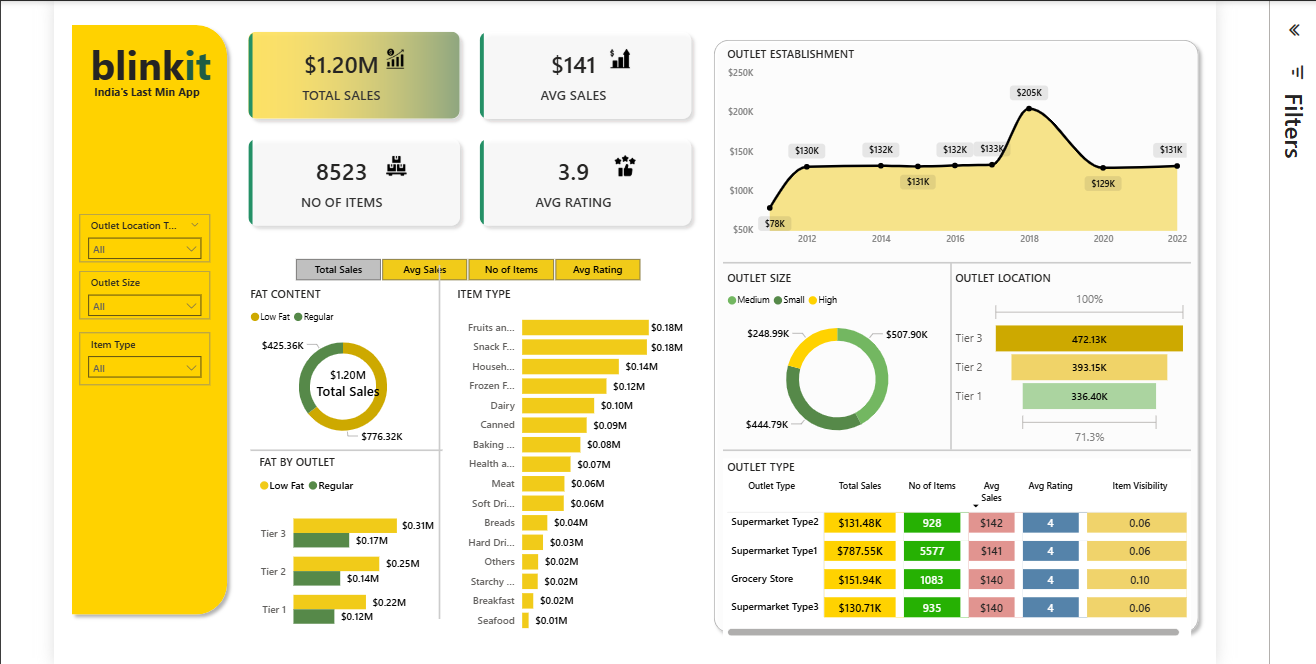

Layout of this report page (visuals, bound fields, positions):
{"tool":"powerbi","page":{"name":"Page 1","canvas":[1400,800],"ordinal":0},"visuals":[{"type":"shape","box":[12.7,19.9,205,728.3],"z":0},{"type":"textbox","box":[265.7,600,204.2,148.2],"z":1},{"type":"textbox","box":[37.2,37.2,157.1,138.5],"z":2},{"type":"textbox","box":[43.4,94,144.6,48.8],"z":3},{"type":"cardVisual","fields":{"Data":["BlinkIT Grocery Data.Total Sales","BlinkIT Grocery Data.Avg Sales","BlinkIT Grocery Data.No of Items","BlinkIT Grocery Data.Avg Rating"]},"box":[216.9,19.9,569.3,269.3],"z":4},{"type":"shape","box":[786.2,38,601.8,731.9],"z":5},{"type":"donutChart","title":"FAT CONTENT","fields":{"Category":["BlinkIT Grocery Data.Item Fat Content"],"Y":["BlinkIT Grocery Data.Total Sales"]},"box":[231.3,343.4,233.1,197],"z":6},{"type":"slicer","fields":{"Values":["Metrics.Metrics"]},"box":[265.7,303.6,464.5,39.8],"z":7},{"type":"cardVisual","fields":{"Data":["BlinkIT Grocery Data.Total Sales"]},"box":[298.2,412.1,112.1,97.6],"z":8},{"type":"clusteredBarChart","title":"FAT BY OUTLET","fields":{"Y":["BlinkIT Grocery Data.Total Sales"],"Category":["BlinkIT Grocery Data.Outlet Location Type"],"Series":["BlinkIT Grocery Data.Item Fat Content"]},"box":[242.2,545.8,220.5,229.5],"z":10},{"type":"shape","box":[236.8,525.9,231.3,30.7],"z":11},{"type":"shape","box":[307.2,318.1,314.5,426.5],"z":12},{"type":"barChart","title":"ITEM TYPE","fields":{"Category":["BlinkIT Grocery Data.Item Type"],"Y":["BlinkIT Grocery Data.Total Sales"]},"box":[480.7,343.4,281.9,426.5],"z":13},{"type":"lineChart","title":"OUTLET ESTABLISHMENT","fields":{"Y":["BlinkIT Grocery Data.Total Sales"],"Category":["BlinkIT Grocery Data.Outlet Establishment Year"]},"box":[806,54.2,563.9,249.4],"z":14},{"type":"shape","box":[806,531.3,563.9,19.9],"z":15},{"type":"donutChart","title":"OUTLET SIZE","fields":{"Y":["BlinkIT Grocery Data.Total Sales"],"Category":["BlinkIT Grocery Data.Outlet Size"]},"box":[806,323.5,274.7,218.7],"z":16},{"type":"shape","box":[1053.6,314.5,54.2,225.9],"z":17},{"type":"funnel","title":"OUTLET LOCATION","fields":{"Y":["Sum(BlinkIT Grocery Data.Sales)"],"Category":["BlinkIT Grocery Data.Outlet Location Type"]},"box":[1080.7,323.5,289.2,216.9],"z":18},{"type":"shape","box":[806,305.4,563.9,19.9],"z":19},{"type":"pivotTable","title":"OUTLET TYPE","fields":{"Rows":["BlinkIT Grocery Data.Outlet Type"],"Values":["BlinkIT Grocery Data.Total Sales","BlinkIT Grocery Data.No of Items","BlinkIT Grocery Data.Avg Sales","BlinkIT Grocery Data.Avg Rating","Avg(BlinkIT Grocery Data.Item Visibility)"]},"box":[806,551.2,563.9,218.7],"z":20},{"type":"slicer","fields":{"Values":["BlinkIT Grocery Data.Outlet Location Type"]},"box":[30.7,256.6,157.2,57.8],"z":21},{"type":"slicer","fields":{"Values":["BlinkIT Grocery Data.Outlet Size"]},"box":[30.7,325.3,157.2,57.8],"z":22},{"type":"slicer","fields":{"Values":["BlinkIT Grocery Data.Item Type"]},"box":[30.7,399.4,157.2,63.3],"z":23}]}

Visuals, with their boxes on the page's 1400x800 design canvas (x1, y1, x2, y2). These are canvas units, not pixel positions in the 1316x664 screenshot, which may show the page scaled, cropped or inside an application window:
shape: {"left": 13, "top": 20, "right": 218, "bottom": 748}
textbox: {"left": 266, "top": 600, "right": 470, "bottom": 748}
textbox: {"left": 37, "top": 37, "right": 194, "bottom": 176}
textbox: {"left": 43, "top": 94, "right": 188, "bottom": 143}
cardVisual - BlinkIT Grocery Data.Total Sales x BlinkIT Grocery Data.Avg Sales: {"left": 217, "top": 20, "right": 786, "bottom": 289}
shape: {"left": 786, "top": 38, "right": 1388, "bottom": 770}
"FAT CONTENT" donutChart: {"left": 231, "top": 343, "right": 464, "bottom": 540}
slicer - Metrics.Metrics: {"left": 266, "top": 304, "right": 730, "bottom": 343}
cardVisual - BlinkIT Grocery Data.Total Sales: {"left": 298, "top": 412, "right": 410, "bottom": 510}
"FAT BY OUTLET" clusteredBarChart: {"left": 242, "top": 546, "right": 463, "bottom": 775}
shape: {"left": 237, "top": 526, "right": 468, "bottom": 557}
shape: {"left": 307, "top": 318, "right": 622, "bottom": 745}
"ITEM TYPE" barChart: {"left": 481, "top": 343, "right": 763, "bottom": 770}
"OUTLET ESTABLISHMENT" lineChart: {"left": 806, "top": 54, "right": 1370, "bottom": 304}
shape: {"left": 806, "top": 531, "right": 1370, "bottom": 551}
"OUTLET SIZE" donutChart: {"left": 806, "top": 324, "right": 1081, "bottom": 542}
shape: {"left": 1054, "top": 314, "right": 1108, "bottom": 540}
"OUTLET LOCATION" funnel: {"left": 1081, "top": 324, "right": 1370, "bottom": 540}
shape: {"left": 806, "top": 305, "right": 1370, "bottom": 325}
"OUTLET TYPE" pivotTable: {"left": 806, "top": 551, "right": 1370, "bottom": 770}
slicer - BlinkIT Grocery Data.Outlet Location Type: {"left": 31, "top": 257, "right": 188, "bottom": 314}
slicer - BlinkIT Grocery Data.Outlet Size: {"left": 31, "top": 325, "right": 188, "bottom": 383}
slicer - BlinkIT Grocery Data.Item Type: {"left": 31, "top": 399, "right": 188, "bottom": 463}
